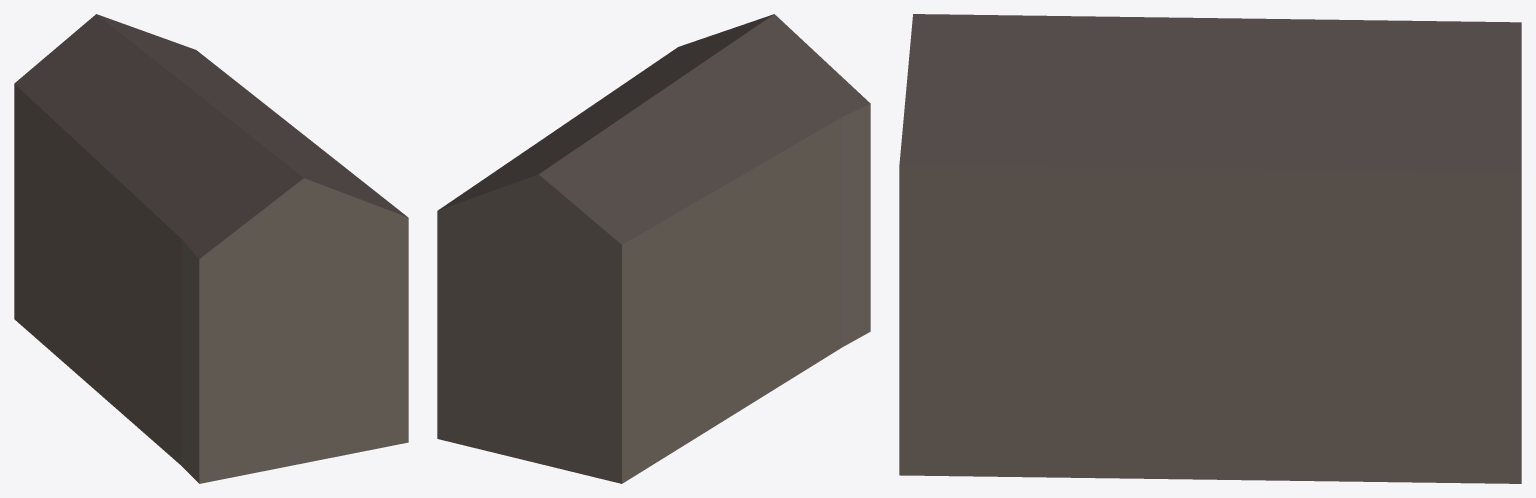
The picture shows the model from 3 angles, left to right: view 1: azimuth 30°, elevation 25°; view 2: azimuth 150°, elevation 25°; view 3: azimuth 270°, elevation 25°; orthographic projection. The views are drawn at different scales.
Parts seen in each view (by area): view 1: HP-w1515071102; view 2: HP-w1515071102; view 3: HP-w1515071102.
Boxes of the visible parts, <box> form: HP-w1515071102: <box>14,14,408,483</box>; HP-w1515071102: <box>437,14,870,483</box>; HP-w1515071102: <box>899,14,1521,483</box>.
Bounding box in the file's own units: 5.93 × 7.61 × 10.89.
